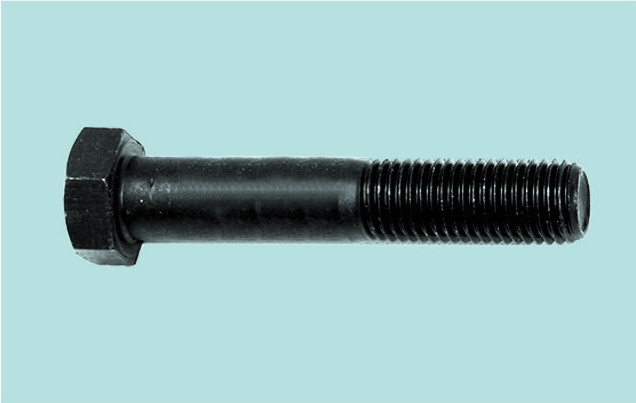screw: (63, 127, 589, 266)
